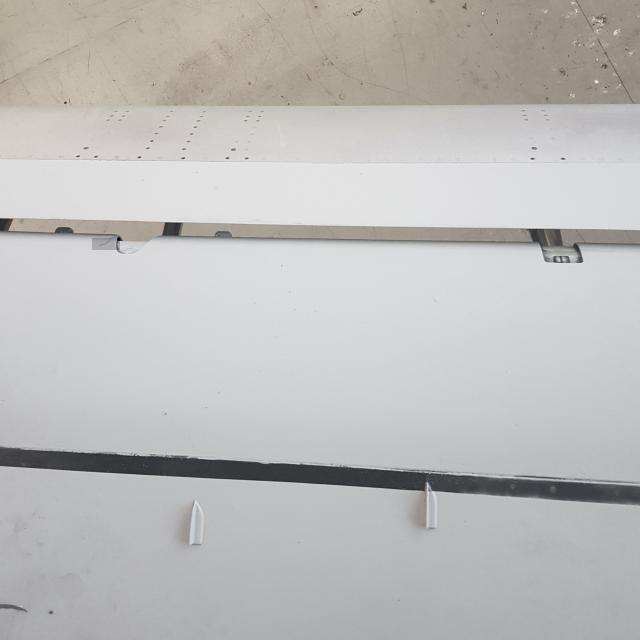crack: (93, 239, 121, 251)
